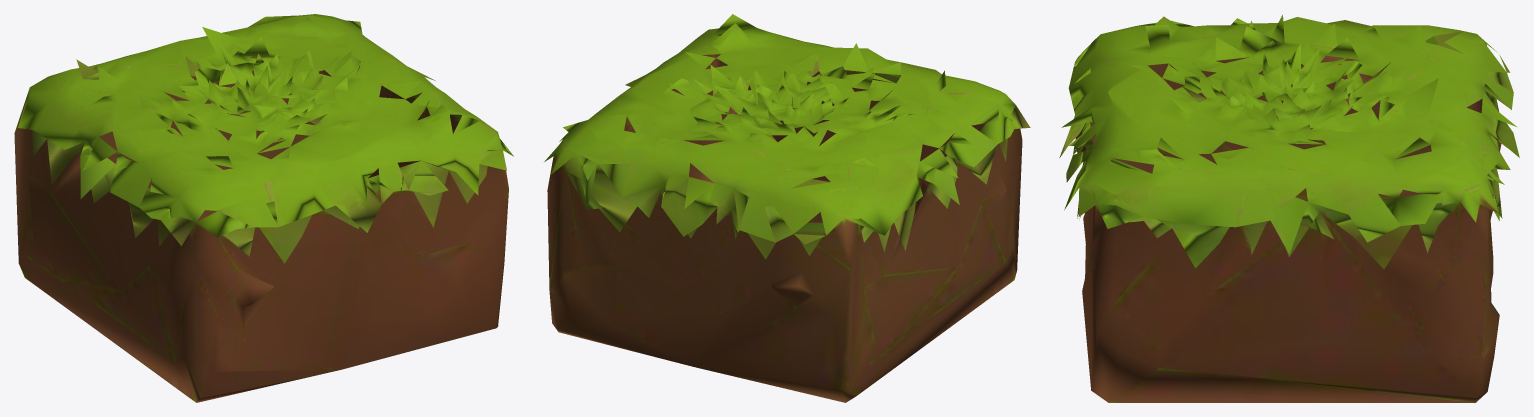
The model's file is block_ground_top.glb.
3 views of the same model, side by side, from view 1: azimuth 30°, elevation 25°; view 2: azimuth 150°, elevation 25°; view 3: azimuth 270°, elevation 25° (orthographic). The views are drawn at different scales.
Size of the model in its own units: 1.9 by 1.15 by 1.9.
Materials: 1 (1 with a texture image).
